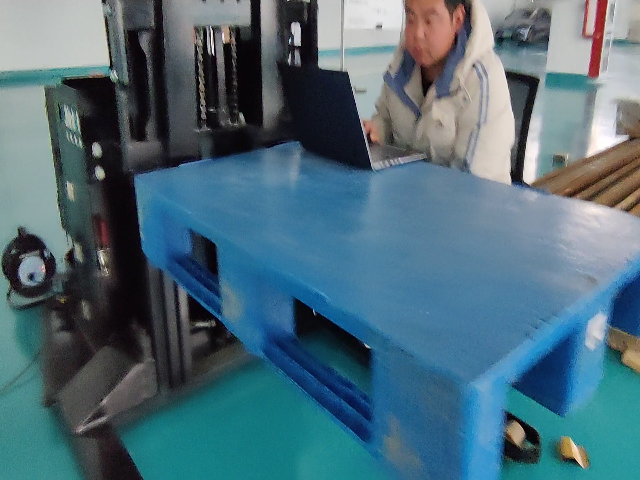block: (367, 337, 509, 479), (215, 236, 275, 359), (567, 287, 612, 419), (133, 180, 169, 271)
front: (469, 257, 639, 479)
hole pallet: (504, 341, 567, 468), (609, 281, 639, 380)
